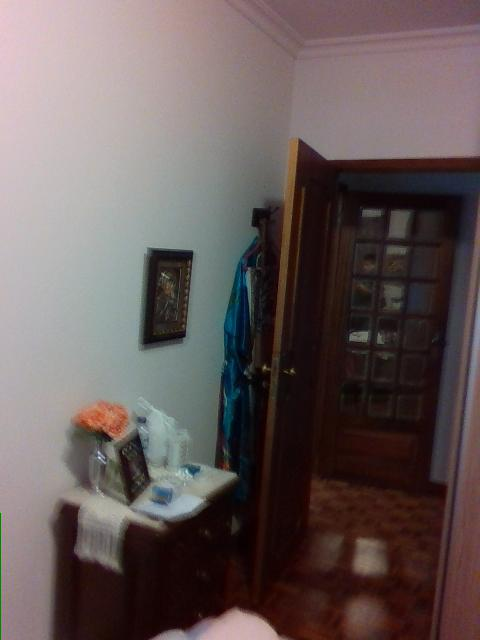door: (254, 135, 336, 610)
